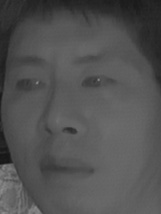eye: (80, 70, 117, 96), (12, 74, 48, 97)
mouth: (37, 149, 94, 187)
